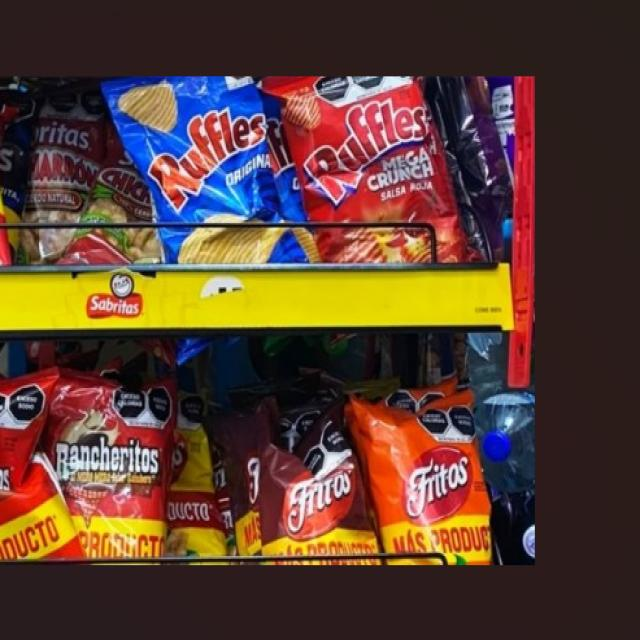rancheritos: (56, 378, 171, 517)
